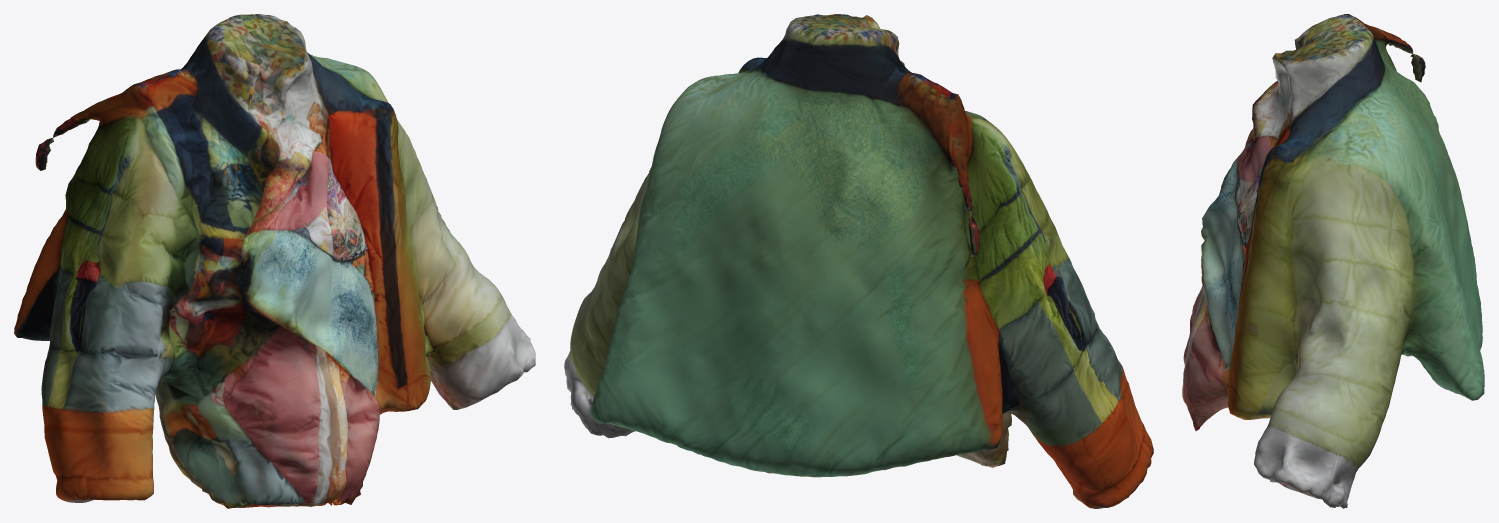
Rendered from jacket.glb.
The picture shows the model from 3 angles, left to right: view 1: azimuth 30°, elevation 25°; view 2: azimuth 150°, elevation 25°; view 3: azimuth 270°, elevation 25°; orthographic projection. The views are drawn at different scales.
Size of the model in its own units: 1.2 by 1.01 by 0.7054.
Materials: 1 (1 with a texture image).
